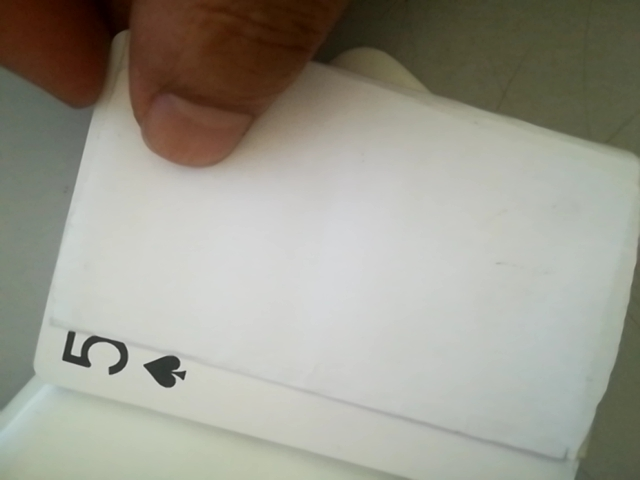ht 5: (48, 324, 194, 402)
